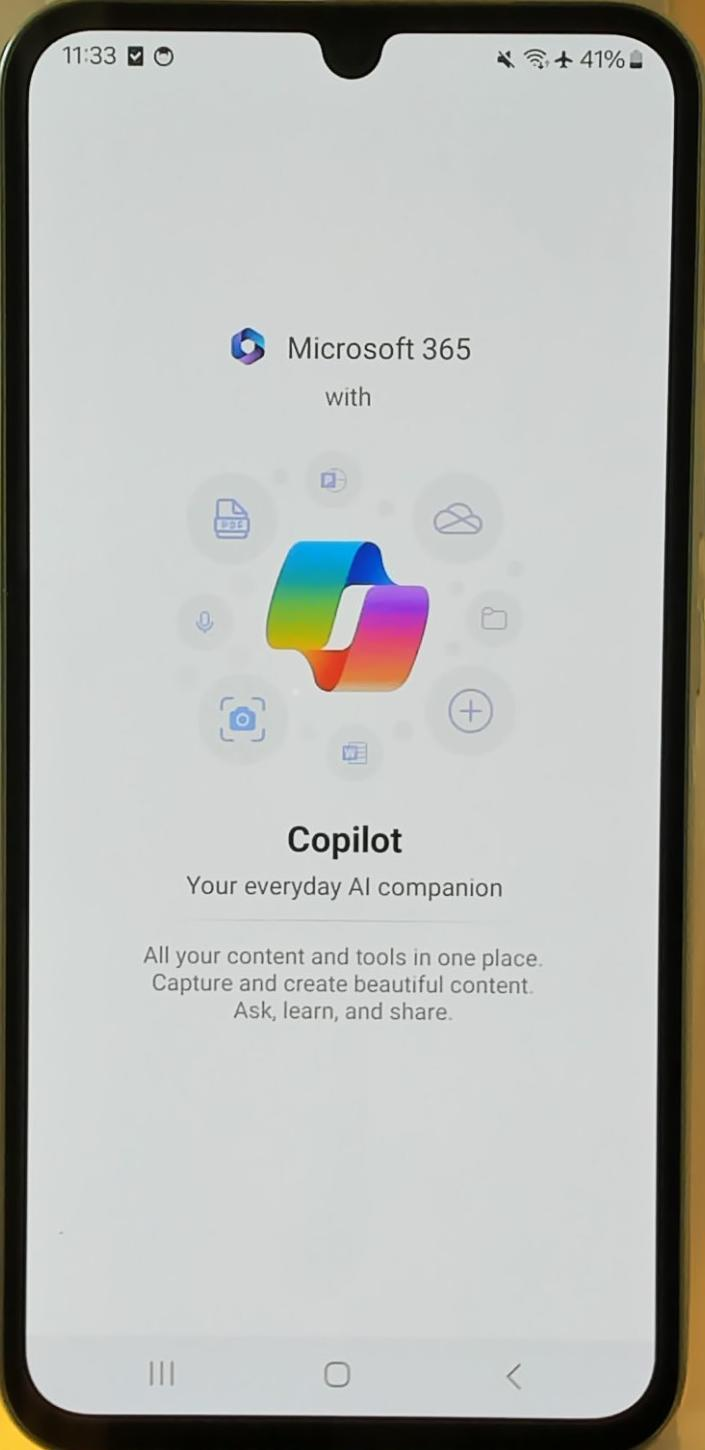CommunBotton: (313, 1350, 359, 1394), (499, 1350, 532, 1395), (144, 1354, 184, 1391)
